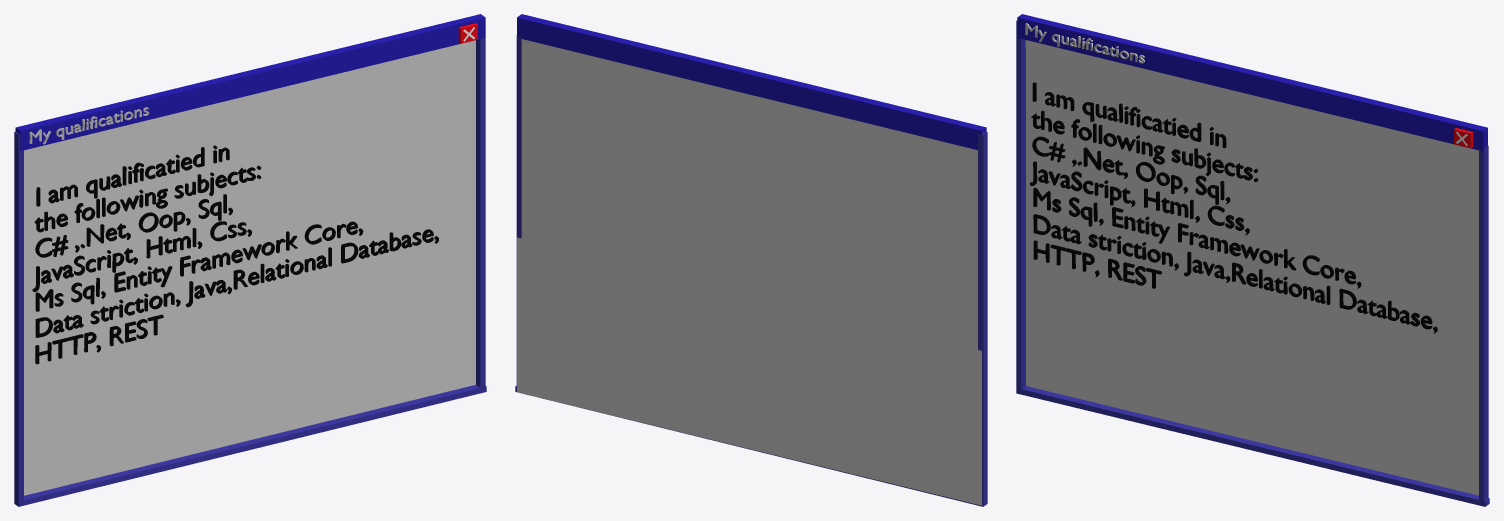
The model's file is qualificationScrean.glb.
The picture shows the model from 3 angles, left to right: view 1: azimuth 30°, elevation 25°; view 2: azimuth 150°, elevation 25°; view 3: azimuth 330°, elevation 25°; orthographic projection.
Visible parts, largest first — view 1: qualificationWindow, Text, Text.001; view 2: qualificationWindow; view 3: qualificationWindow, Text, Text.001.
Boxes of the visible parts, <box> form: qualificationWindow: <box>14,14,486,506</box>; Text: <box>32,145,438,364</box>; Text.001: <box>29,107,149,144</box>; qualificationWindow: <box>515,14,987,506</box>; qualificationWindow: <box>1016,14,1489,506</box>; Text: <box>1030,82,1437,333</box>; Text.001: <box>1025,23,1144,63</box>.
Bounding box in the file's own units: 1.08 × 0.8281 × 0.0296.
